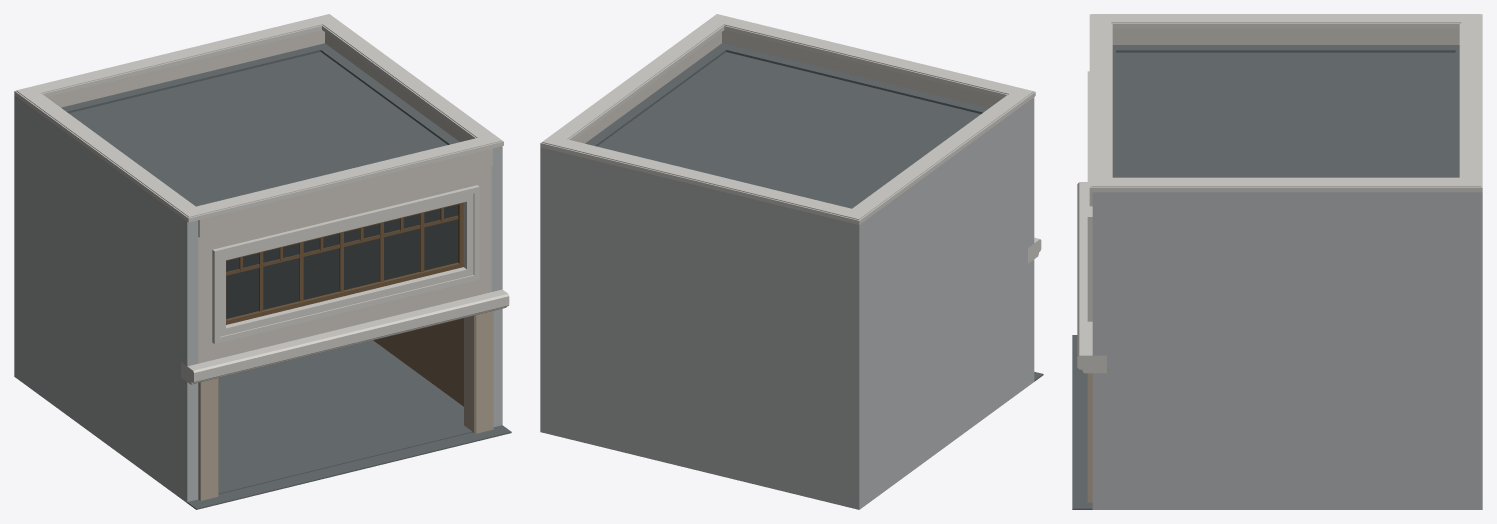
File: cafe-storefront-unit-443728.glb
3 renders of one model, left to right at view 1: azimuth 30°, elevation 25°; view 2: azimuth 150°, elevation 25°; view 3: azimuth 270°, elevation 25°, orthographic. The views are drawn at different scales.
Parts seen in each view (by area): view 1: cafe-unit-shell; view 2: cafe-unit-shell; view 3: cafe-unit-shell.
Boxes of the visible parts, x1,y1,x2,y2 form: cafe-unit-shell: [14, 14, 511, 509]; cafe-unit-shell: [540, 14, 1043, 509]; cafe-unit-shell: [1072, 14, 1482, 509].
Bounding box in the file's own units: 8 × 6.95 × 8.
